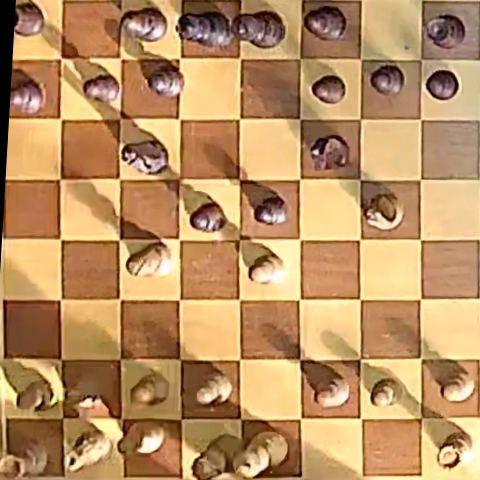black-bishop: (120, 7, 168, 43), (304, 6, 347, 40)
black-king: (232, 12, 285, 48)
black-knight: (122, 140, 168, 175), (310, 135, 349, 170)
black-pawn: (11, 79, 46, 115), (148, 65, 184, 98), (84, 74, 120, 104), (190, 203, 226, 233), (370, 65, 404, 96), (312, 75, 346, 104), (426, 70, 458, 100), (255, 196, 288, 225)
black-queen: (178, 11, 233, 46)
black-rook: (425, 14, 465, 49), (14, 2, 44, 36)
white-bishop: (116, 422, 168, 457), (128, 242, 172, 276)
white-king: (234, 431, 287, 477)
white-knight: (65, 429, 111, 473), (364, 193, 403, 230)
white-pawn: (73, 381, 112, 416), (130, 373, 169, 407), (195, 372, 232, 406), (247, 253, 286, 285), (315, 376, 351, 408), (17, 379, 53, 411), (440, 374, 474, 403), (371, 379, 400, 408)
white-queen: (191, 433, 240, 480)
white-rook: (1, 438, 48, 478), (437, 431, 474, 469)
